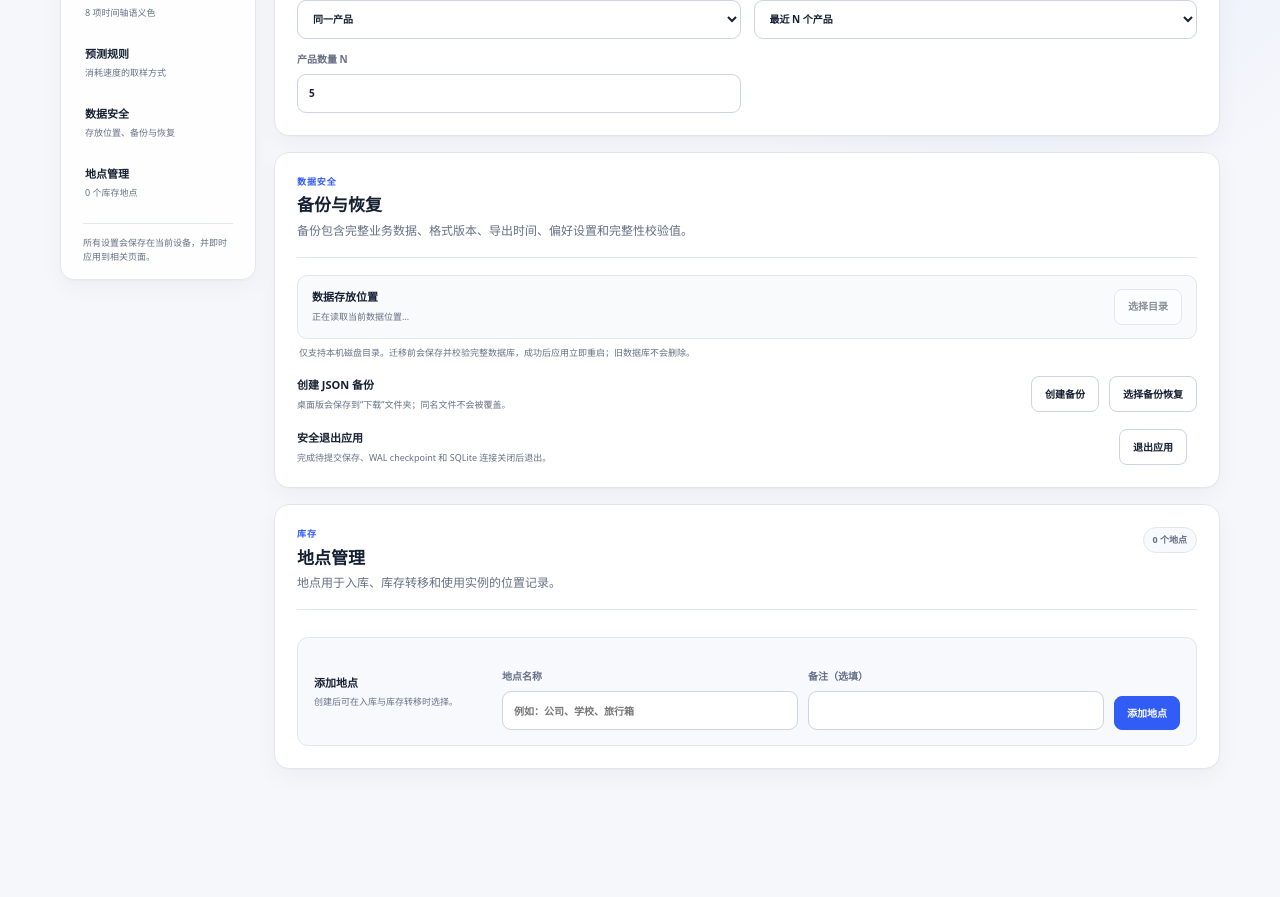
Scenario: offers an in-app exit that completes the safe SQLite shutdown command
This screenshot has width=1280, height=897.
(page scrolled)
What coordinates should you click on to do the following:
click the button "退出应用"
I would click on:
 (1153, 447)
Its box is [1119, 429, 1187, 465].
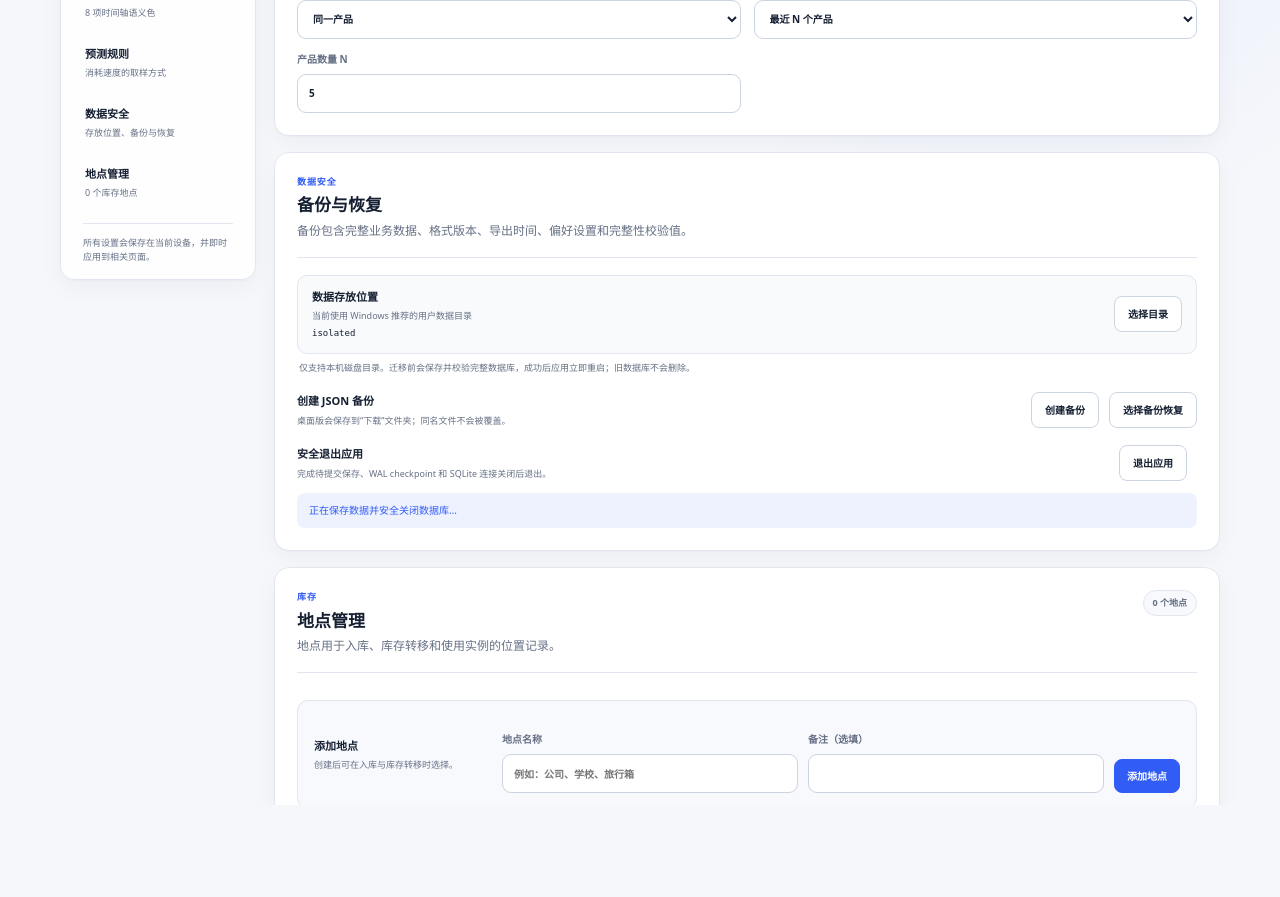
Check: the text "正在保存数据并安全关闭数据库…" is shown, box [297, 493, 1197, 528]
